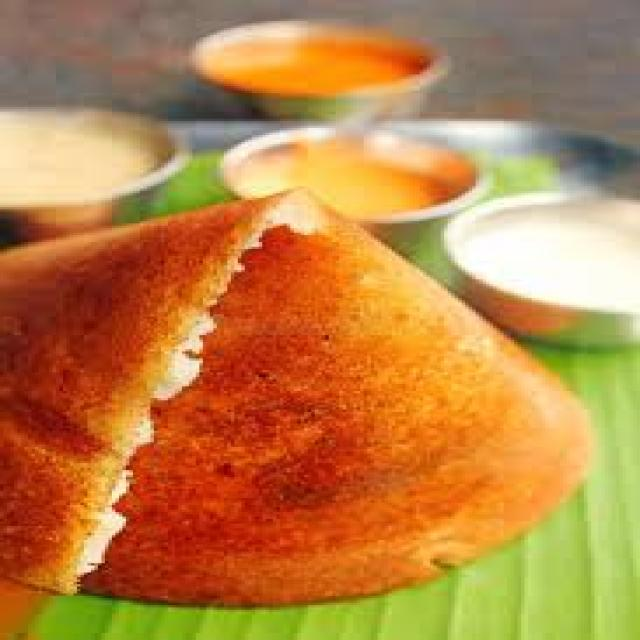DOSA: (0, 185, 604, 607)
